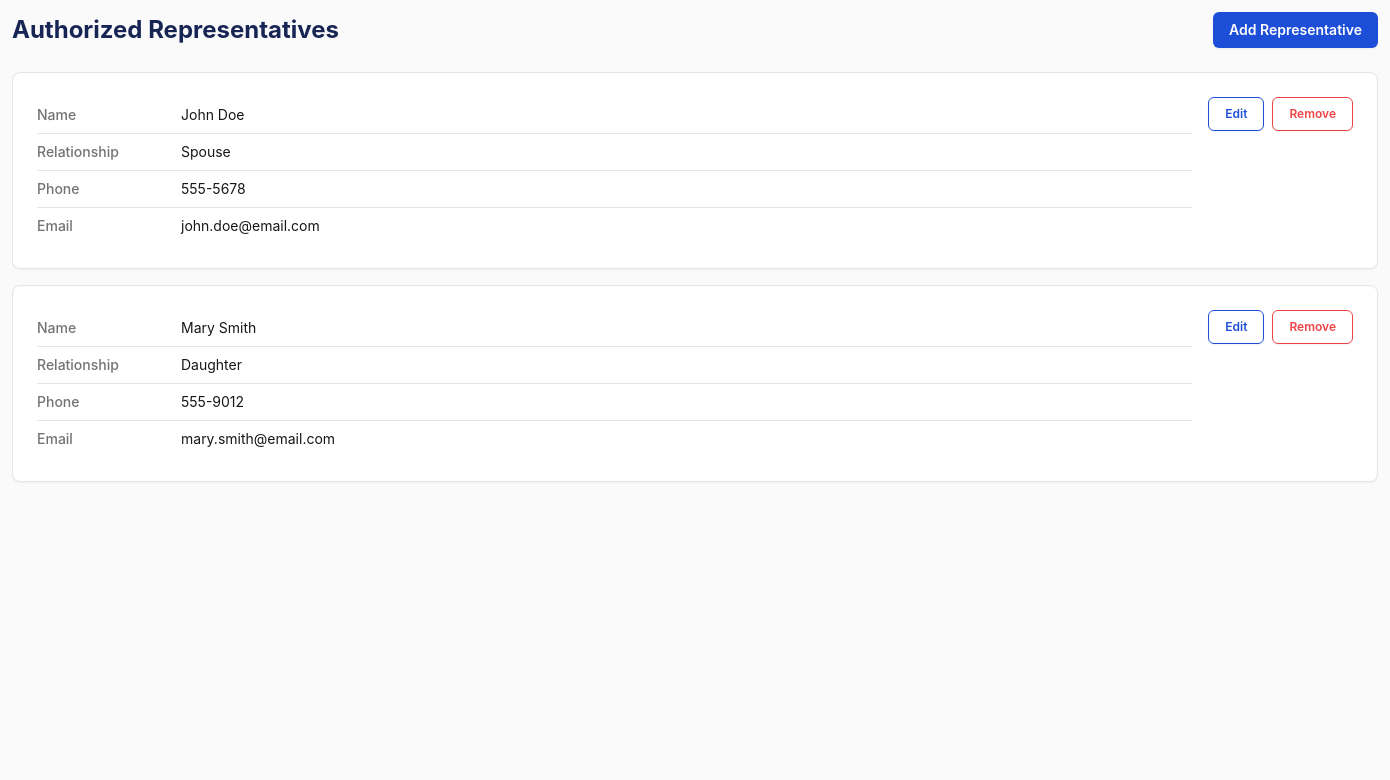
Test: RepresentativesPage › edits a representative and shows success toast
Click the button "Edit" in the row of "John Doe": (1236, 114) left=1208, top=97, right=1264, bottom=131
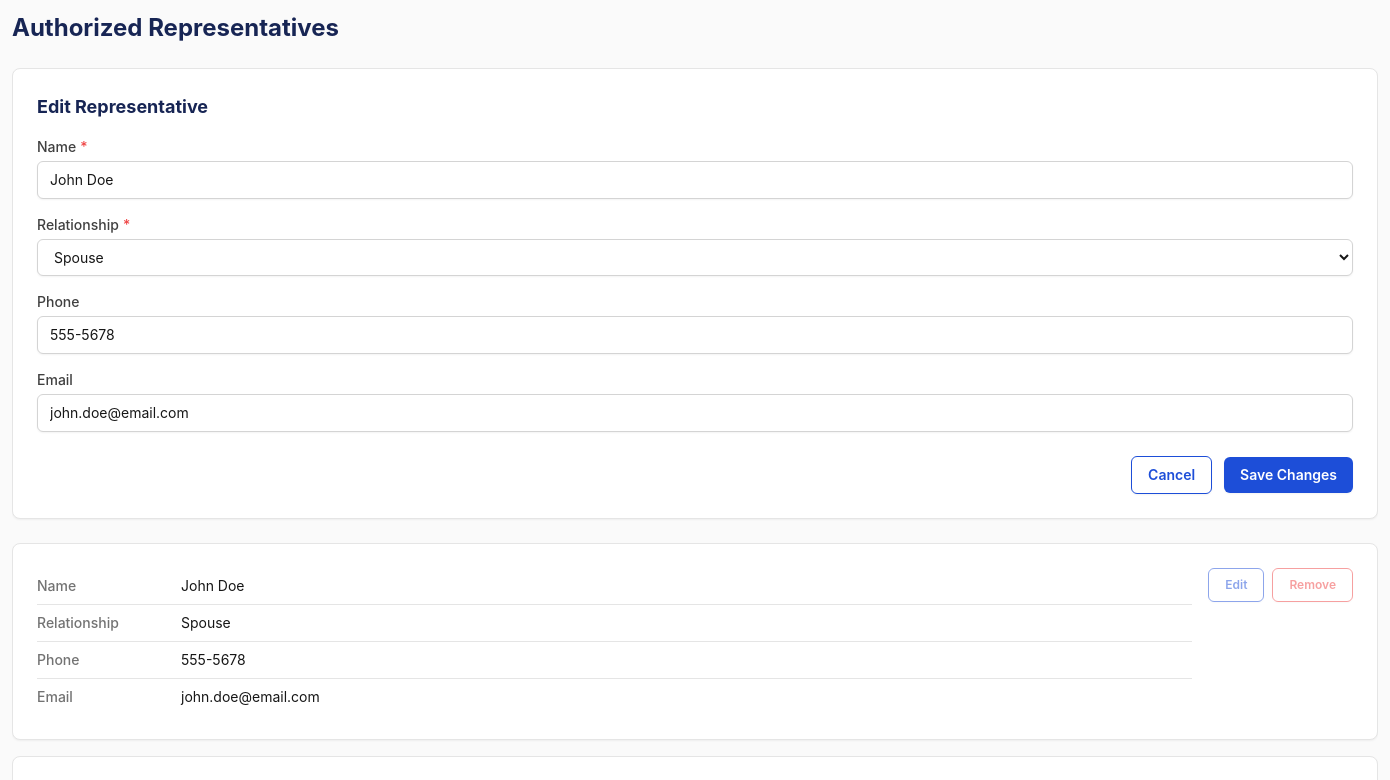
Replace the text in the field labelled "Name*" with "John Updated": (695, 180) left=37, top=161, right=1353, bottom=199
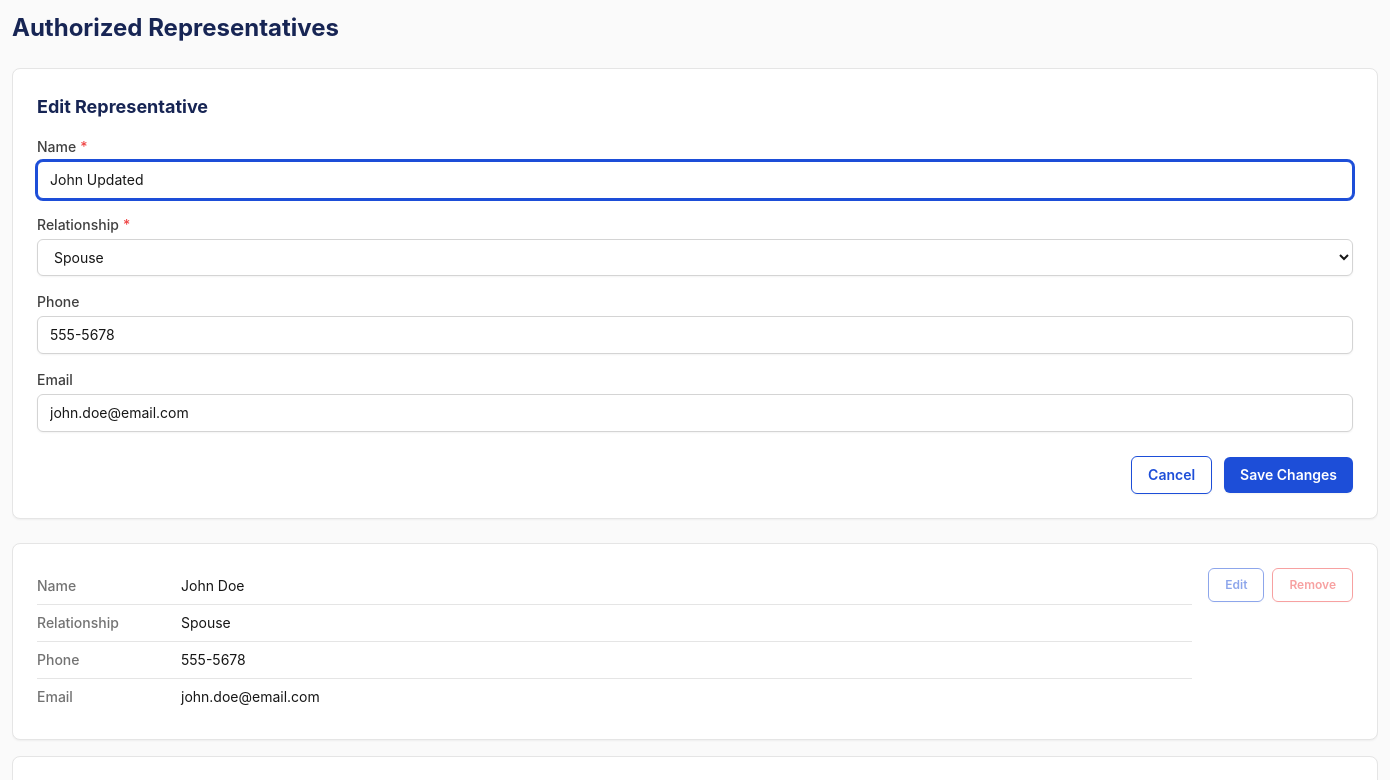
Replace the text in the field labelled "Phone" with "555-999-8888": (695, 335) left=37, top=316, right=1353, bottom=354
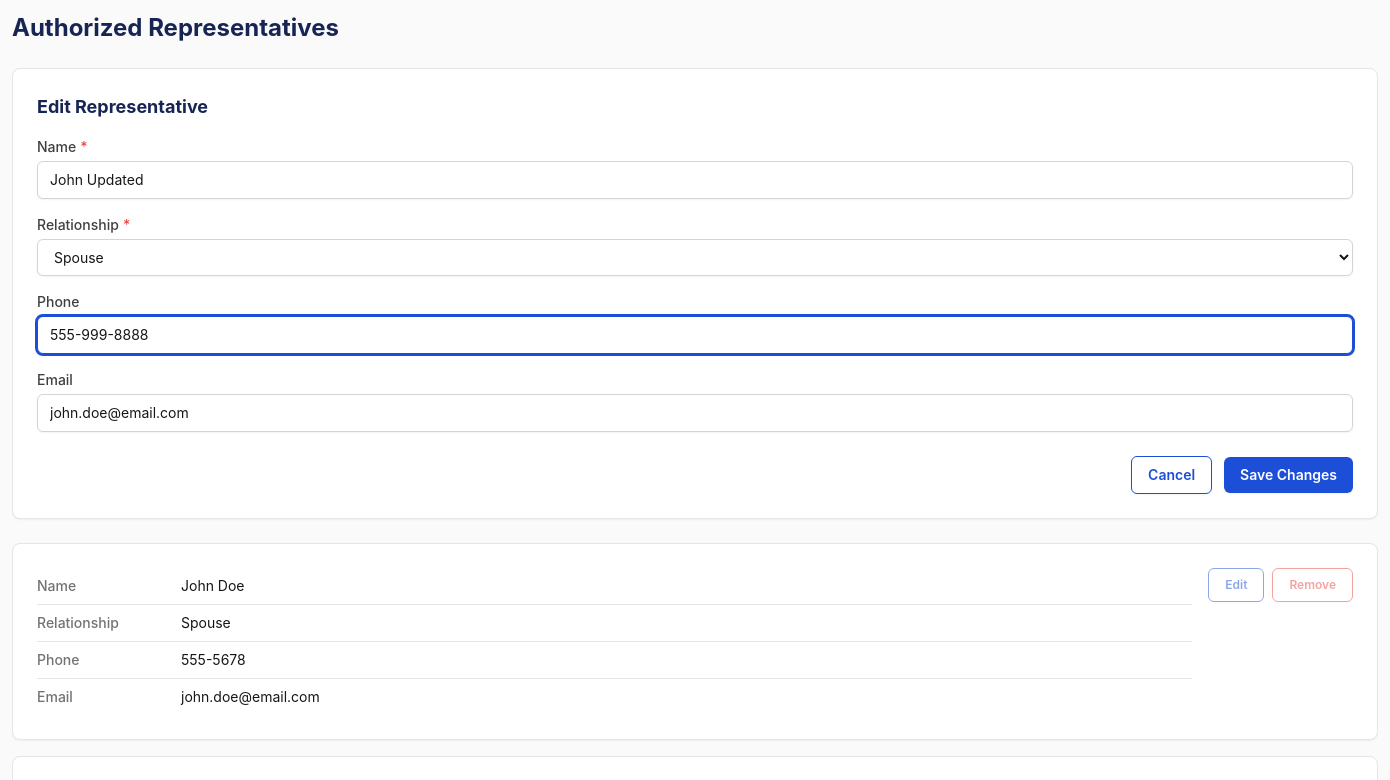
Click the button "Save Changes": (1289, 475) left=1224, top=457, right=1353, bottom=493
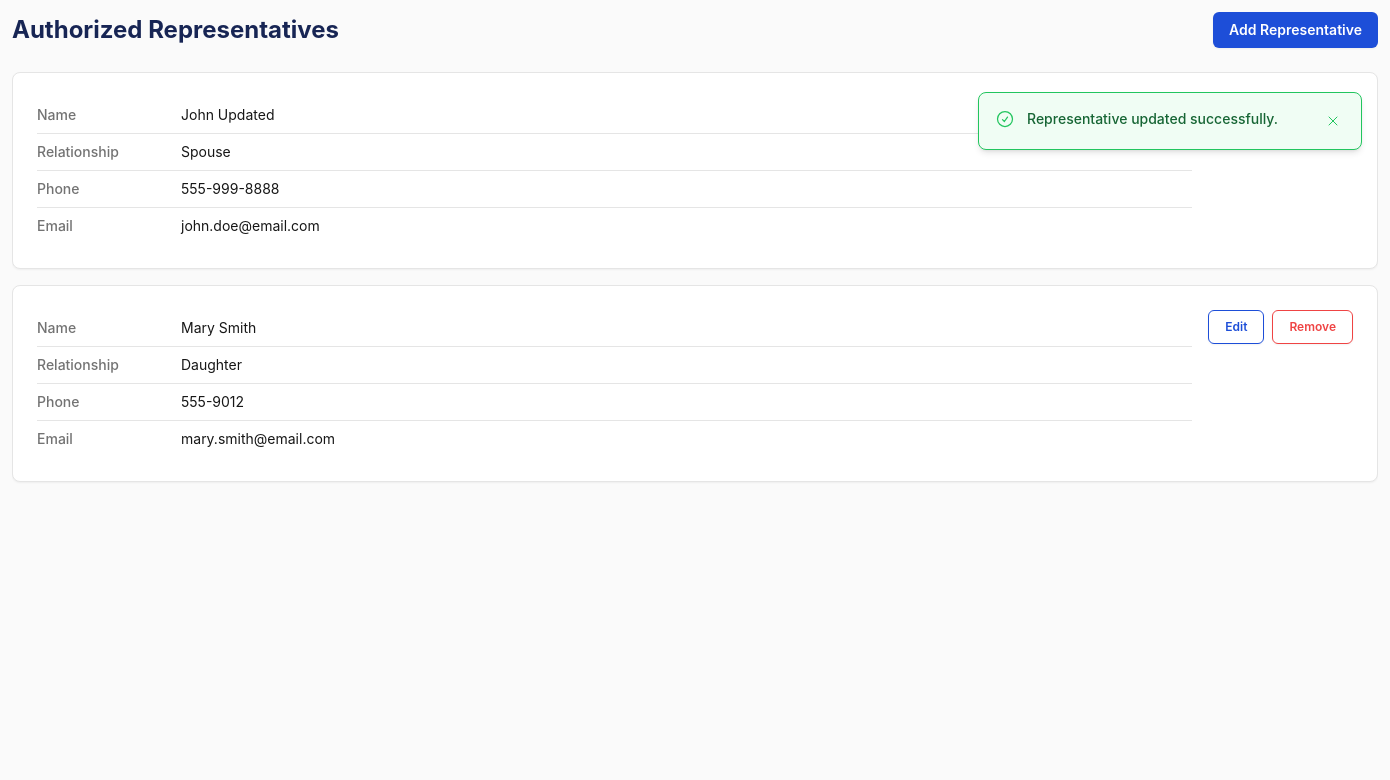
Now the text "Representative updated successfully." is shown, box left=1027, top=109, right=1309, bottom=129
Now the text "John Updated" is shown, box left=181, top=105, right=274, bottom=125
Now the text "555-999-8888" is shown, box left=181, top=179, right=280, bottom=199
